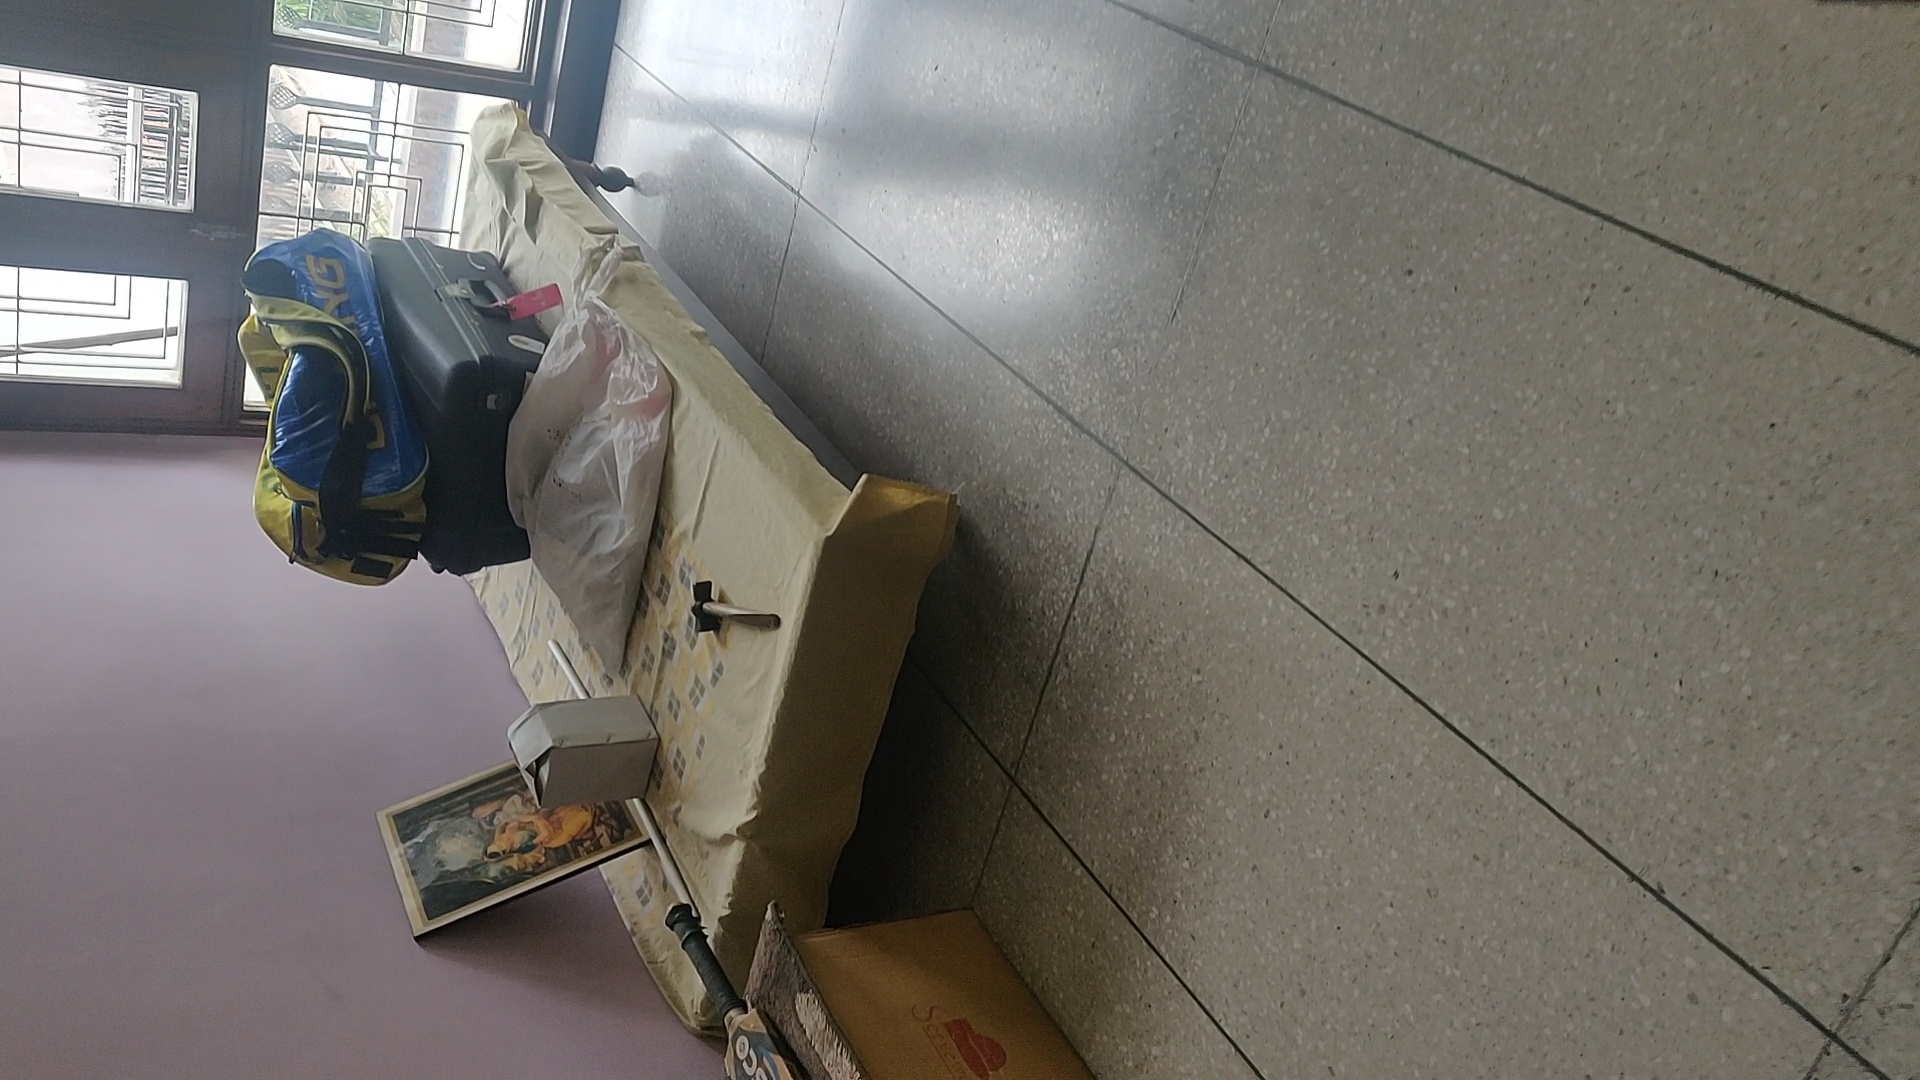hammer: (688, 575, 781, 642)
